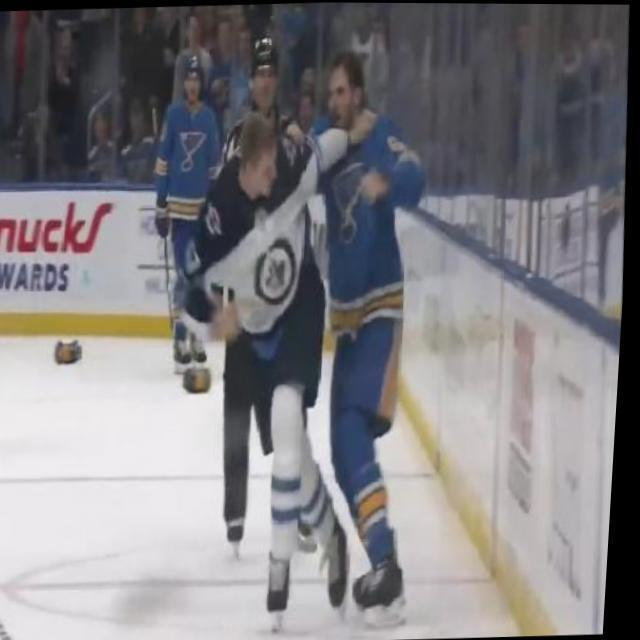fight: (161, 49, 452, 613)
